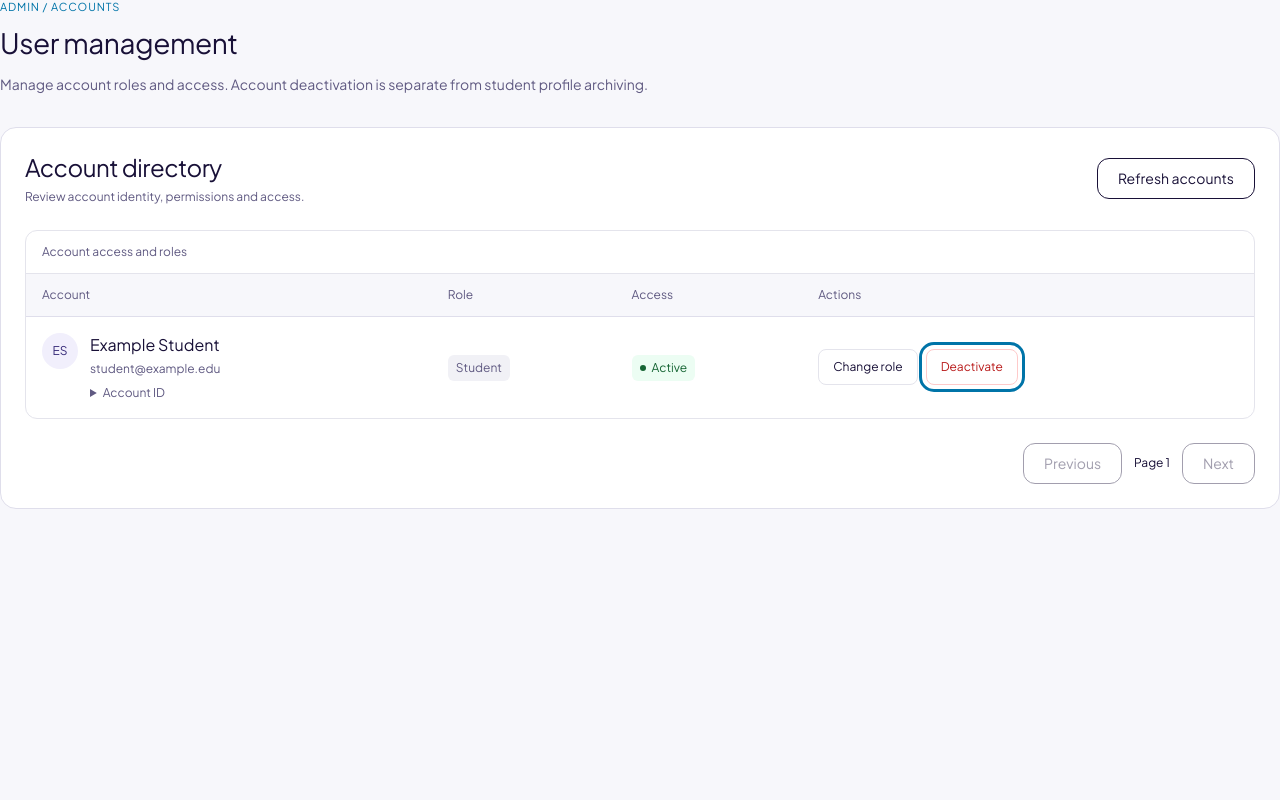
Test case: shows confirmed deactivation with pending=false
Click the button "Deactivate" at coordinates (972, 367), box [926,349,1018,385]
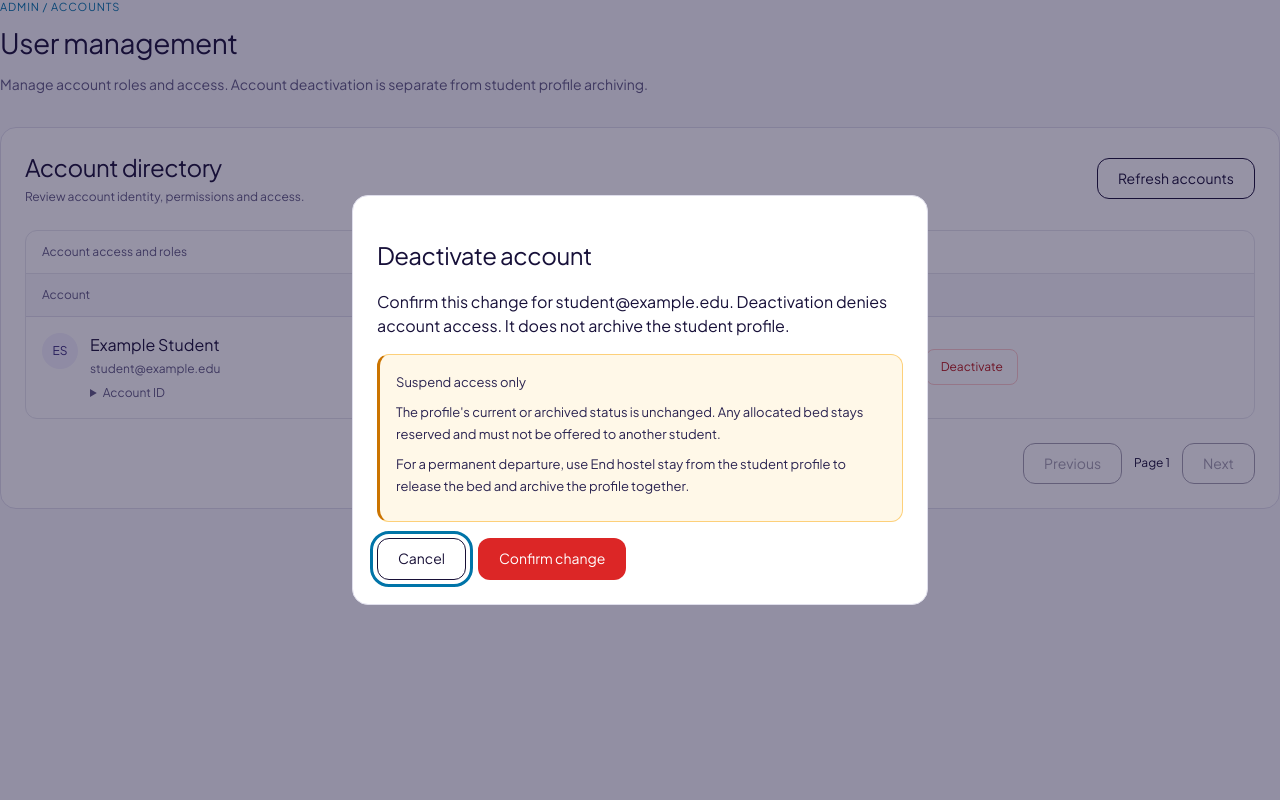
Check: the text "does not archive" is shown, box [377,291,887,336]
Click the button "Confirm change" at coordinates (552, 559), box [478,538,626,580]
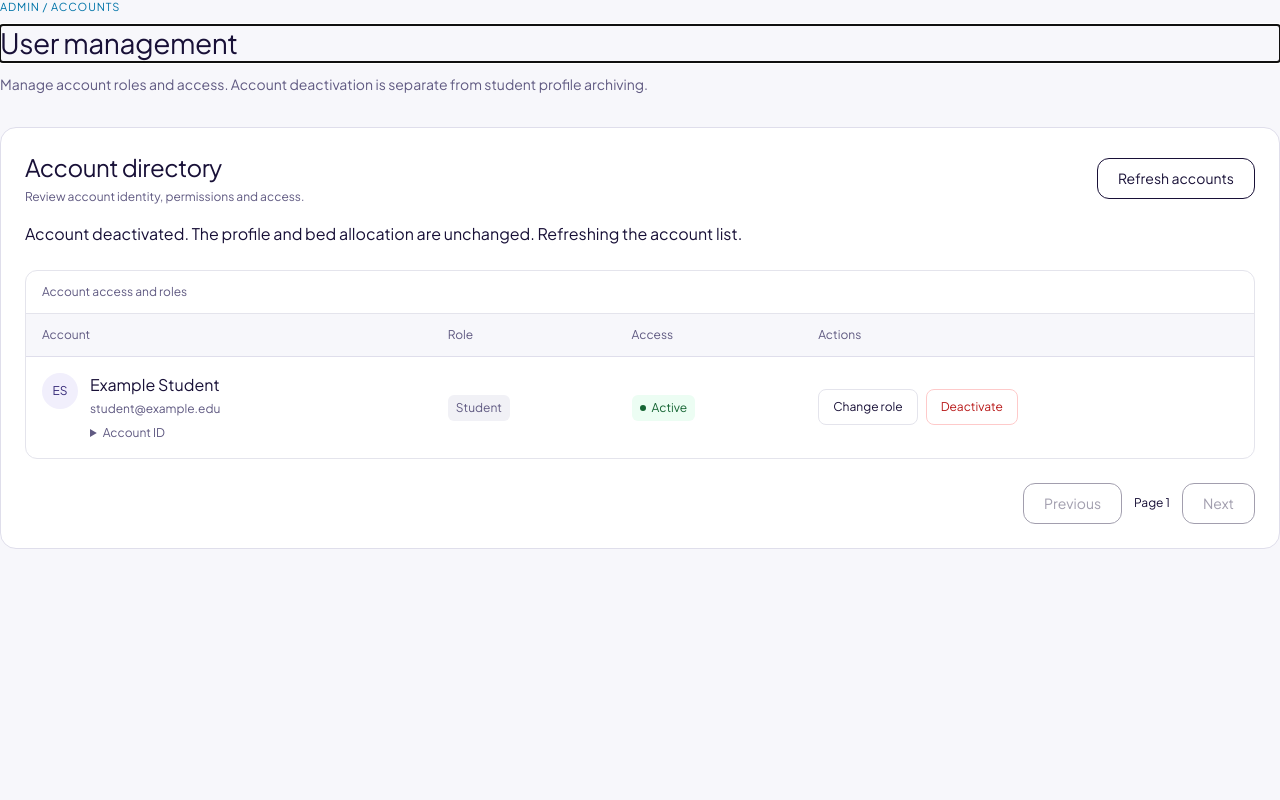
Check: the text "Account deactivated." is shown, box [25,223,535,244]
